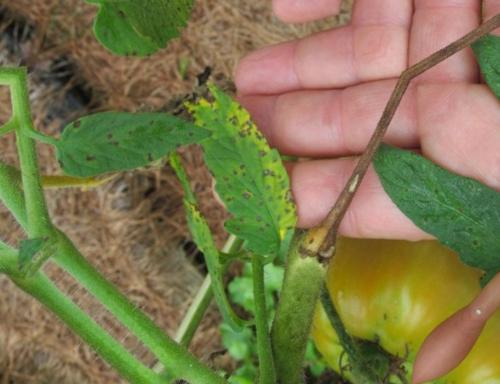Tomato Septoria leaf spot: (138, 70, 343, 271), (47, 57, 221, 231), (355, 112, 500, 298), (75, 0, 237, 81)
